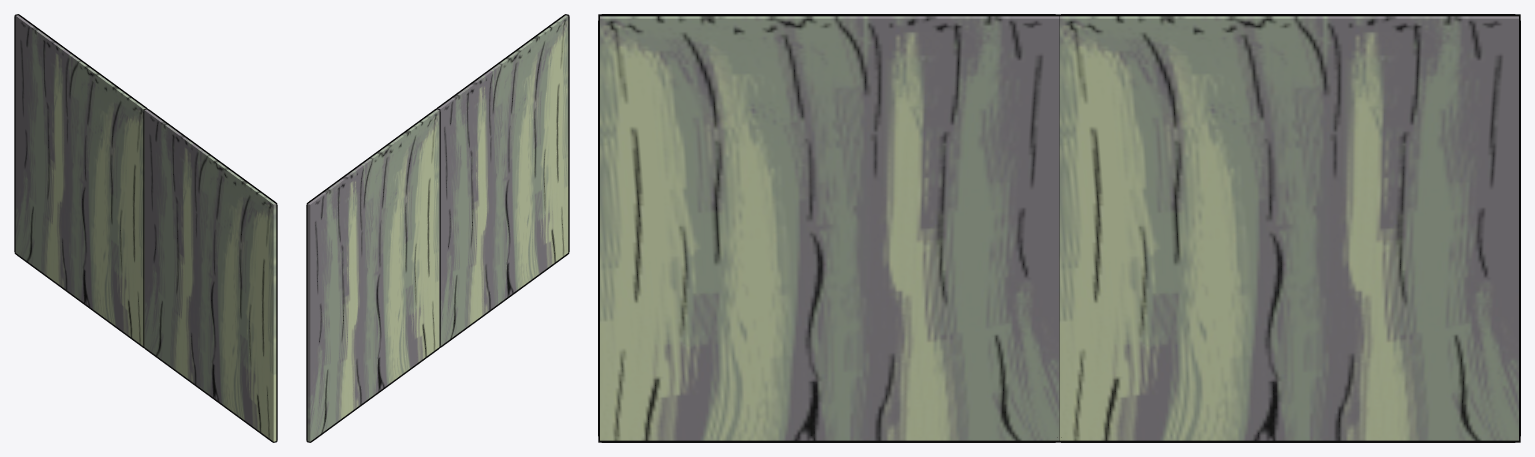
The model's file is bettercurtainupdate.fbx.
3 views of the same model, side by side, from view 1: azimuth 30°, elevation 25°; view 2: azimuth 150°, elevation 25°; view 3: azimuth 270°, elevation 25° (orthographic). The views are drawn at different scales.
Visible parts, largest first — view 1: Plane.003, Plane.001; view 2: Plane.001, Plane.003; view 3: Plane.003, Plane.001.
Boxes of the visible parts, x1,y1,x2,y2 form: Plane.003: (143, 108, 277, 442); Plane.001: (14, 14, 148, 348); Plane.001: (306, 108, 440, 442); Plane.003: (435, 14, 569, 348); Plane.003: (598, 14, 1061, 442); Plane.001: (1057, 14, 1520, 442).
Size of the model in its own units: 4 by 185 by 363.
4 materials, 2 textured.
